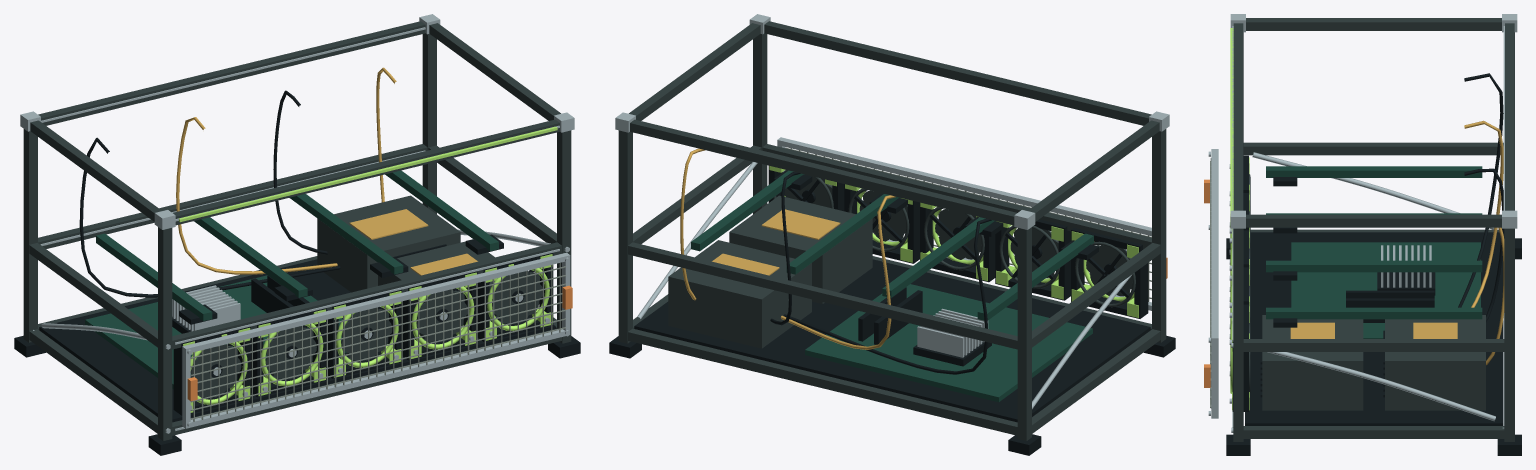
File: rig-gameplay-mesh-none.glb
3 views of the same model, side by side, from view 1: azimuth 30°, elevation 25°; view 2: azimuth 150°, elevation 25°; view 3: azimuth 270°, elevation 25° (orthographic).
Visible parts, largest first — view 1: Anodized graphite (×6), Rubber and ABS (×6), Brushed aluminium (×2), Filter fibres, Circuit board, Lime accents (×5), Contacts, rig-gameplay-mesh-none, slot-cable-1, slot-cable-2, slot-cable-3; view 2: Anodized graphite (×6), Rubber and ABS (×5), Circuit board, Brushed aluminium (×2), Lime accents (×3), Contacts, slot-cable-1, slot-cable-2, Filter fibres, slot-cable-3, slot-cable-4; view 3: Anodized graphite, Rubber and ABS (×2), Circuit board, Brushed aluminium (×2), Contacts, slot-cable-1, slot-cable-2, rig-gameplay-mesh-none, slot-cable-3, Filter fibres, slot-cable-4.
Part boxes in pixels (<box>): Anodized graphite (×6): <box>23,21,571,440</box>; Rubber and ABS (×6): <box>14,234,580,455</box>; Brushed aluminium (×2): <box>20,14,574,433</box>; Filter fibres: <box>190,263,565,421</box>; Circuit board: <box>85,170,498,389</box>; Lime accents (×5): <box>183,254,552,412</box>; Contacts: <box>349,209,477,275</box>; rig-gameplay-mesh-none: <box>178,126,557,222</box>; slot-cable-1: <box>79,137,340,297</box>; slot-cable-2: <box>176,117,337,274</box>; slot-cable-3: <box>273,90,327,254</box>; Anodized graphite (×6): <box>618,21,1166,440</box>; Rubber and ABS (×5): <box>609,170,1175,455</box>; Circuit board: <box>691,170,1093,402</box>; Brushed aluminium (×2): <box>615,14,1169,409</box>; Lime accents (×3): <box>920,202,1138,317</box>; Contacts: <box>712,209,840,275</box>; slot-cable-1: <box>783,218,991,374</box>; slot-cable-2: <box>780,195,895,349</box>; Filter fibres: <box>786,147,1151,301</box>; slot-cable-3: <box>770,172,800,325</box>; slot-cable-4: <box>680,148,704,300</box>; Anodized graphite: <box>1233,18,1514,441</box>; Rubber and ABS (×2): <box>1226,177,1521,455</box>; Circuit board: <box>1266,166,1482,338</box>; Brushed aluminium (×2): <box>1211,14,1517,432</box>; Contacts: <box>1290,322,1457,338</box>; slot-cable-1: <box>1458,73,1503,307</box>; slot-cable-2: <box>1464,120,1503,307</box>; rig-gameplay-mesh-none: <box>1230,28,1233,215</box>; slot-cable-3: <box>1464,168,1504,321</box>; Filter fibres: <box>1210,158,1211,408</box>; slot-cable-4: <box>1486,227,1504,365</box>.
Bounding box in the file's own units: 6.06 × 3.24 × 3.94.
